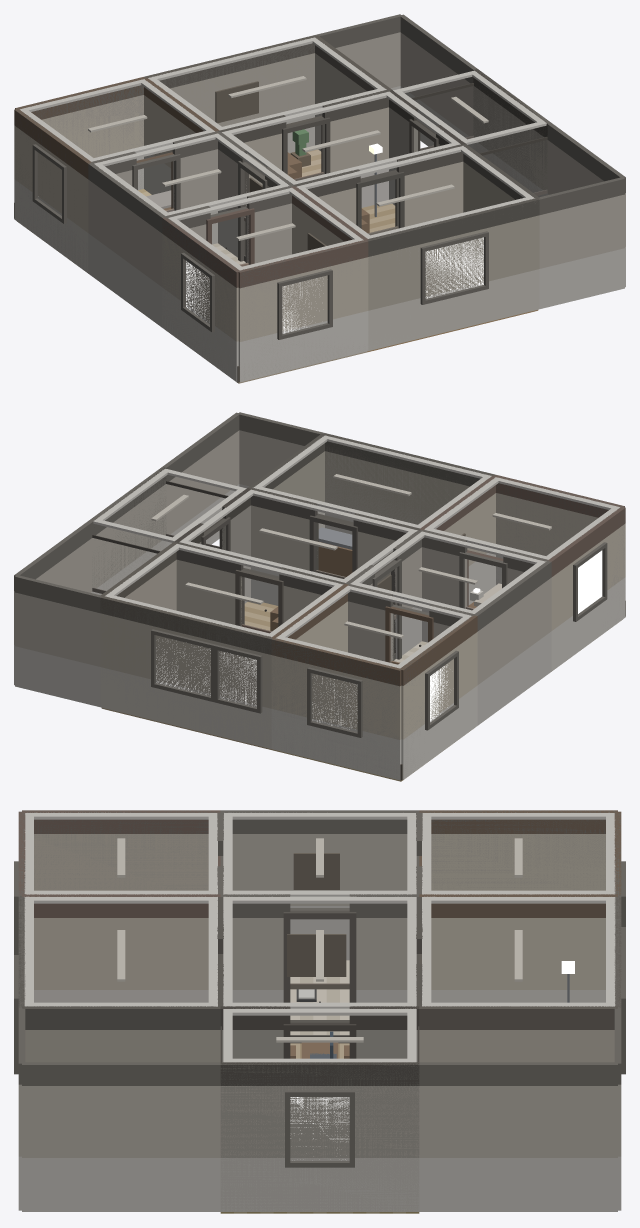
The model's file is house_shell.glb.
The picture shows the model from 3 angles, top to bottom: view 1: azimuth 30°, elevation 25°; view 2: azimuth 150°, elevation 25°; view 3: azimuth 270°, elevation 25°; orthographic projection. The views are drawn at different scales.
Visible parts, largest first — view 1: house_shell; view 2: house_shell; view 3: house_shell.
Boxes of the visible parts, x1,y1,x2,y2 form: house_shell: [14, 14, 625, 383]; house_shell: [14, 412, 625, 781]; house_shell: [14, 810, 625, 1213].
Bounding box in the file's own units: 9.24 × 2.58 × 9.24.
